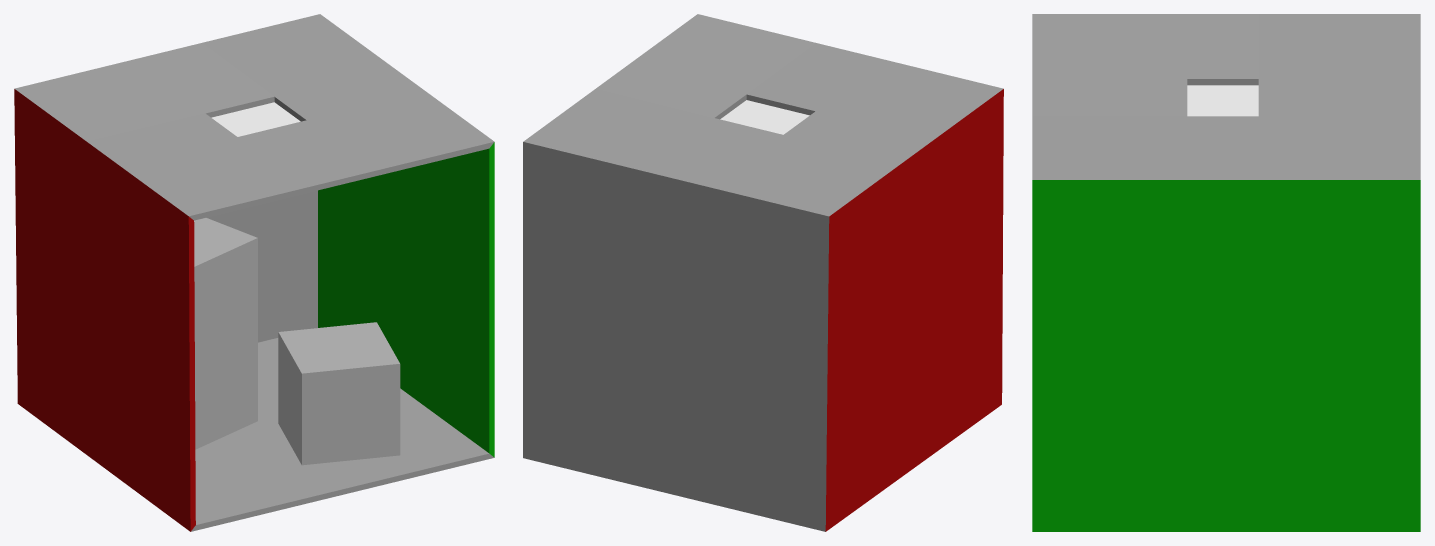
File: CornellBox.fbx
The picture shows the model from 3 angles, left to right: view 1: azimuth 30°, elevation 25°; view 2: azimuth 150°, elevation 25°; view 3: azimuth 270°, elevation 25°; orthographic projection. The views are drawn at different scales.
Parts seen in each view (by area): view 1: cornell_box, small_box, large_box, Light; view 2: cornell_box, Light; view 3: cornell_box, Light.
Boxes of the visible parts, x1,y1,x2,y2 form: cornell_box: [14, 14, 494, 531]; small_box: [278, 322, 400, 465]; large_box: [194, 218, 257, 449]; Light: [211, 102, 300, 136]; cornell_box: [523, 14, 1003, 531]; Light: [720, 100, 809, 134]; cornell_box: [1032, 14, 1420, 531]; Light: [1187, 85, 1258, 116].
Bounding box in the file's own units: 576 × 569 × 569.
